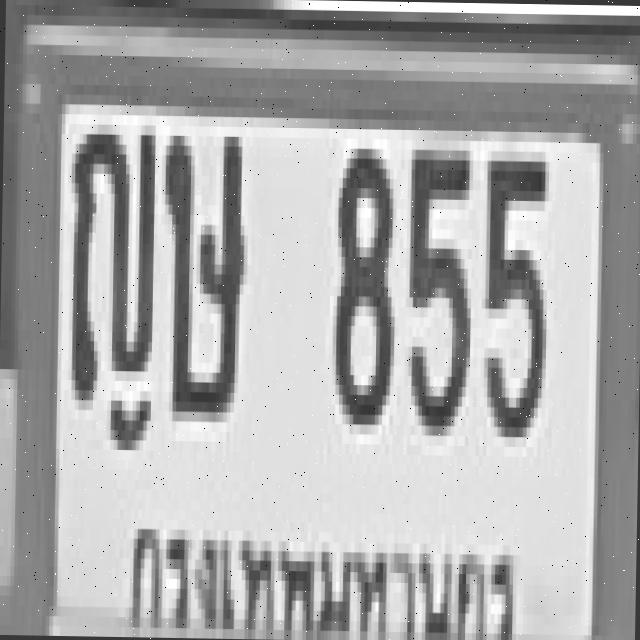22YorYing: (65, 114, 154, 401)
48SorRueSi: (158, 125, 242, 412)
5: (403, 139, 469, 426), (479, 146, 545, 432)
8: (332, 138, 391, 414)
Bangkok: (124, 489, 521, 640)
